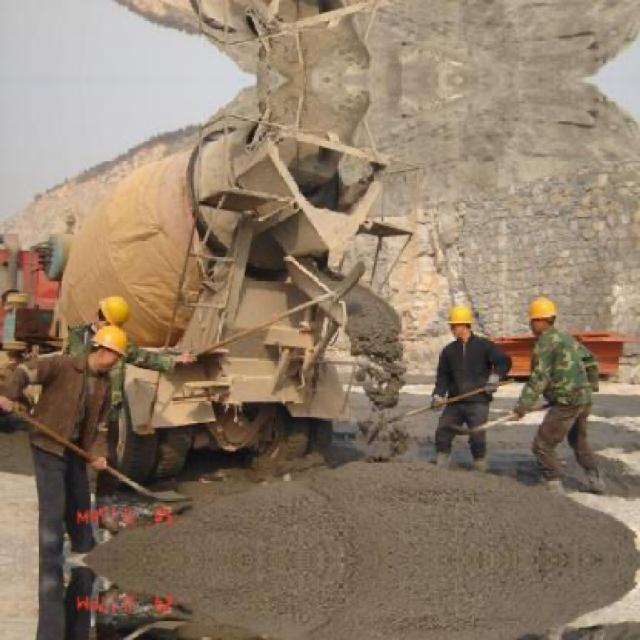con casco: (414, 297, 501, 379), (76, 311, 143, 398), (522, 295, 574, 368)
